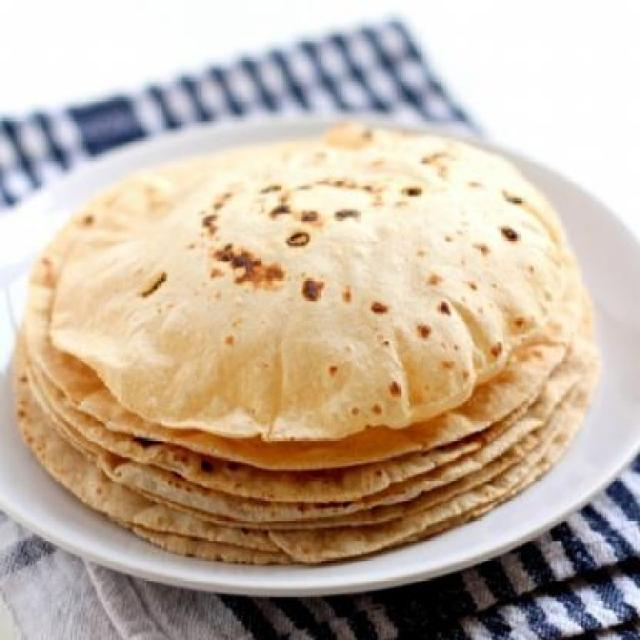chapati: (49, 123, 565, 442)
